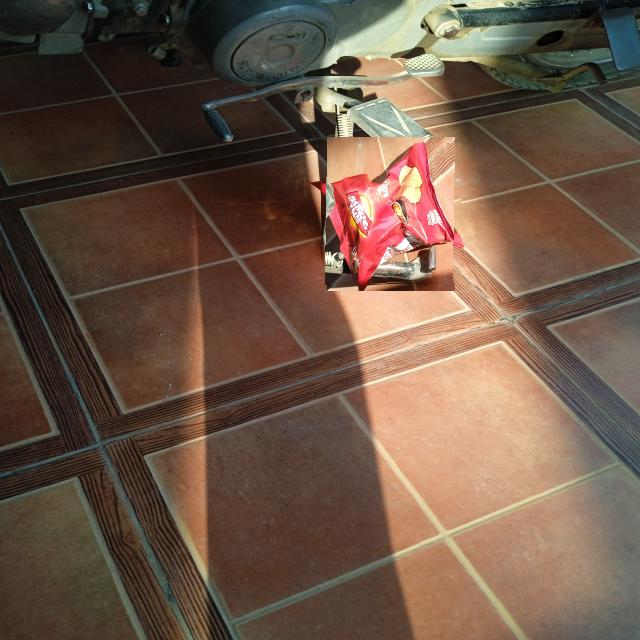Plastic: (321, 143, 462, 285)
